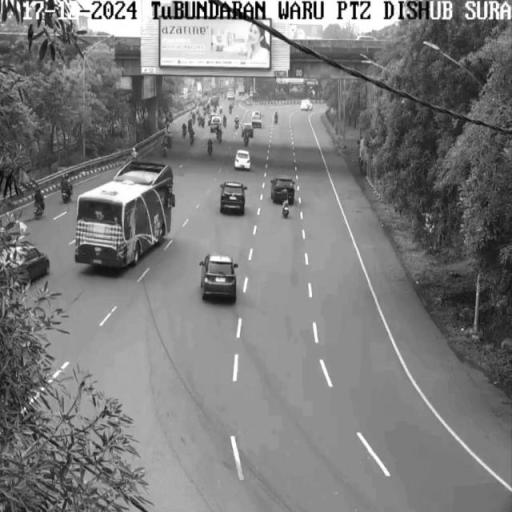bus: (79, 161, 176, 274)
car: (195, 245, 253, 317), (216, 180, 251, 216), (268, 173, 298, 208), (29, 250, 56, 279), (232, 150, 253, 170)
